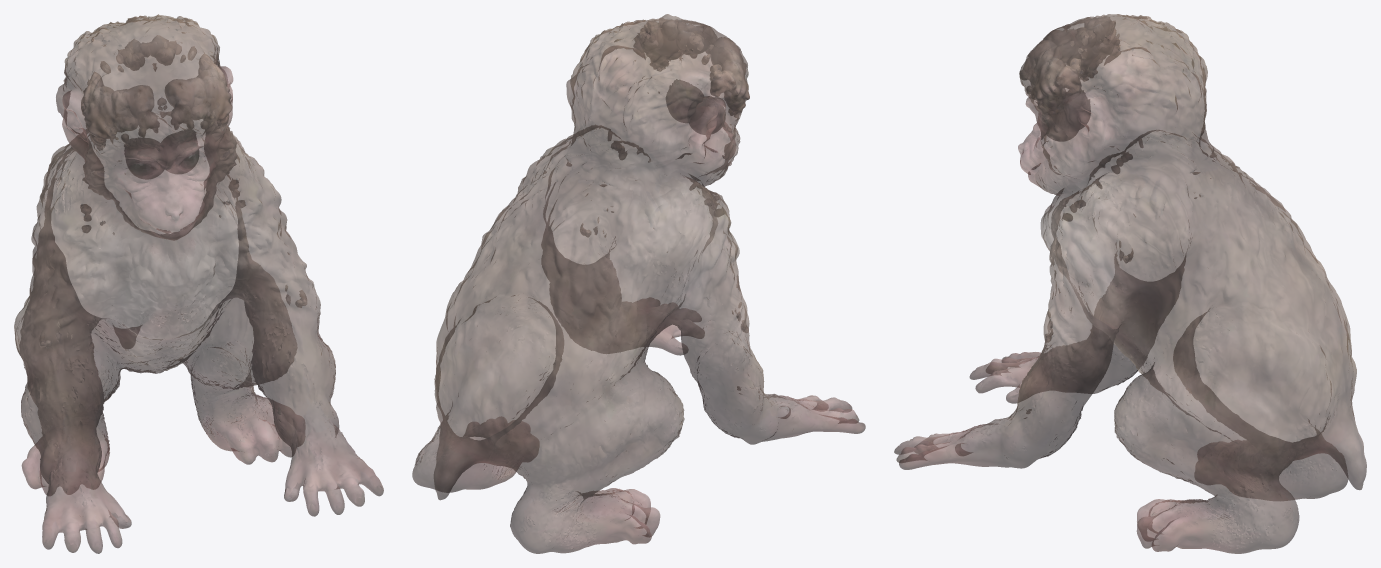
File: japanese-macaque.glb
3 renders of one model, left to right at view 1: azimuth 30°, elevation 25°; view 2: azimuth 150°, elevation 25°; view 3: azimuth 270°, elevation 25°, orthographic. The views are drawn at different scales.
Parts seen in each view (by area): view 1: Object_2; view 2: Object_2; view 3: Object_2.
Part boxes in pixels (box(x1,y1,x2,y2)): Object_2: box(14, 14, 383, 553); Object_2: box(412, 14, 865, 553); Object_2: box(894, 14, 1366, 553).
Bounding box in the file's own units: 4.25 × 5.95 × 5.37.
1 material, 1 textured.
